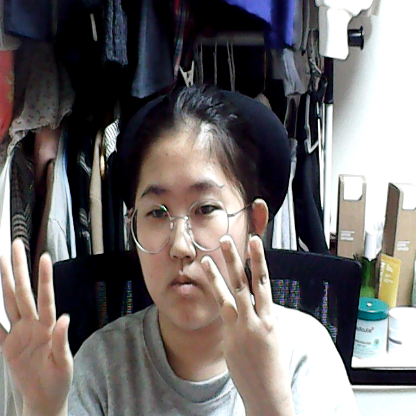Finger_3: (204, 237, 296, 402)
Finger_5: (1, 237, 85, 413)
